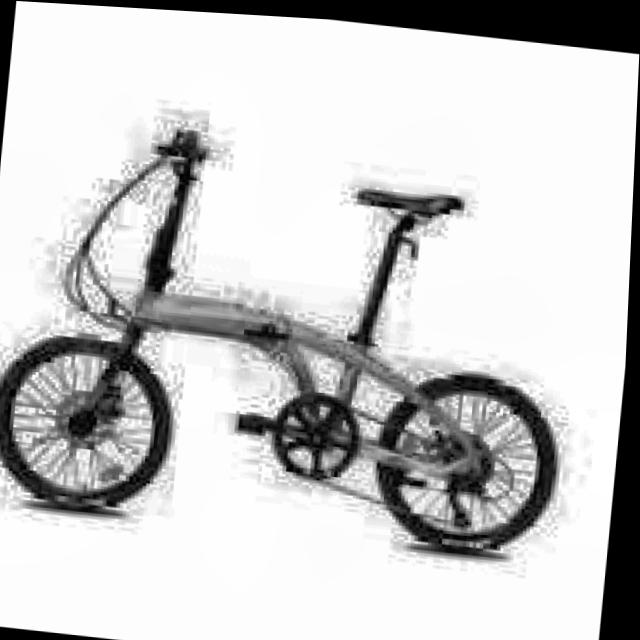bike: (0, 98, 600, 594)
